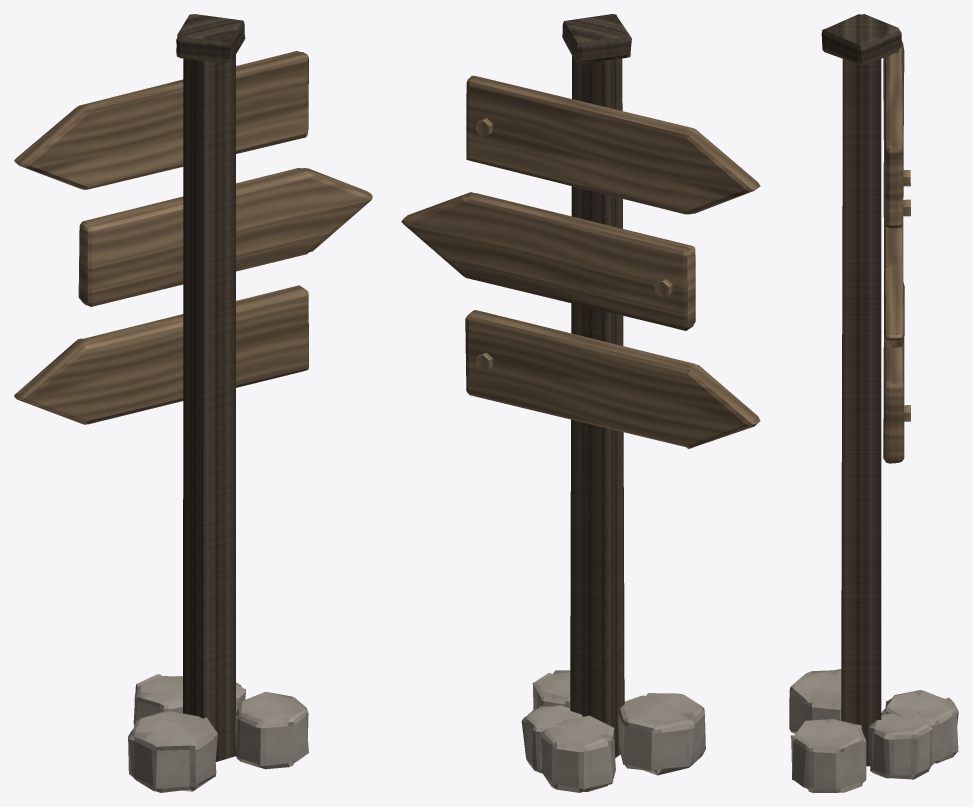
Rendered from road_sign.glb.
3 renders of one model, left to right at view 1: azimuth 30°, elevation 25°; view 2: azimuth 150°, elevation 25°; view 3: azimuth 270°, elevation 25°, orthographic.
Parts seen in each view (by area): view 1: RoadSign, Arrow2, Arrow1, Arrow3; view 2: RoadSign, Arrow1, Arrow2, Arrow3; view 3: RoadSign, Arrow1, Arrow3, Arrow2.
Boxes of the visible parts, x1,y1,x2,y2 form: RoadSign: (128, 14, 308, 792); Arrow2: (78, 168, 372, 306); Arrow1: (14, 51, 308, 189); Arrow3: (14, 285, 308, 424); RoadSign: (521, 14, 705, 792); Arrow1: (466, 75, 760, 214); Arrow2: (401, 192, 695, 330); Arrow3: (465, 310, 760, 448); RoadSign: (789, 14, 958, 792); Arrow1: (883, 40, 910, 228); Arrow3: (883, 282, 910, 463); Arrow2: (883, 163, 910, 347).
Size of the model in its own units: 0.8855 by 1.74 by 0.3657.
3 materials, 3 textured.
